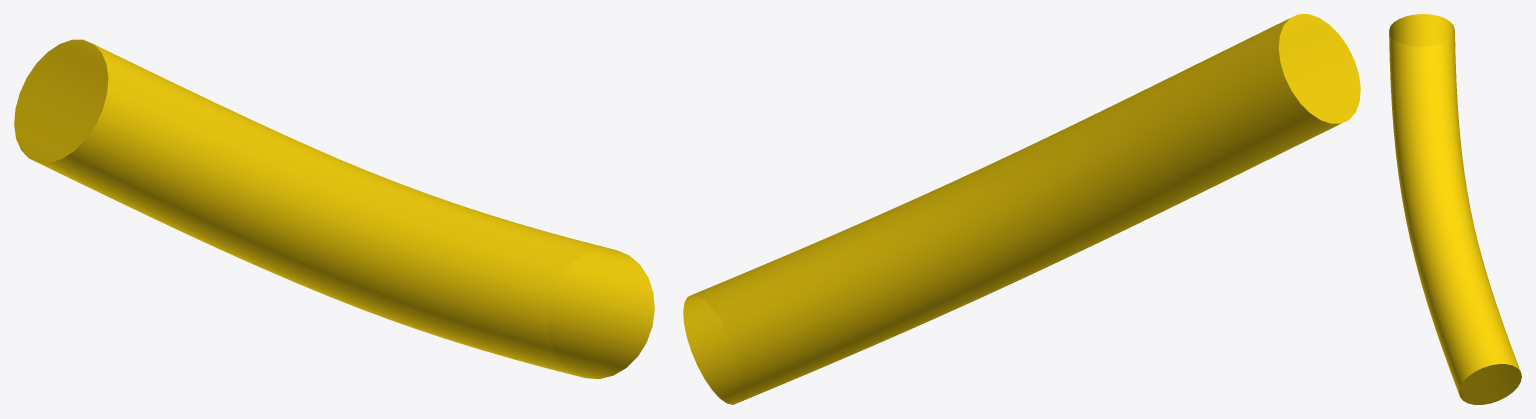
The model's file is Event_421127236_track_39.fbx.
3 renders of one model, left to right at view 1: azimuth 30°, elevation 25°; view 2: azimuth 150°, elevation 25°; view 3: azimuth 270°, elevation 25°, orthographic. The views are drawn at different scales.
Parts seen in each view (by area): view 1: Model; view 2: Model; view 3: Model.
Boxes of the visible parts, x1,y1,x2,y2 form: Model: (14,39,654,378); Model: (683,14,1360,404); Model: (1389,14,1521,404).
Bounding box in the file's own units: 0.2357 × 0.1717 × 0.0807.
